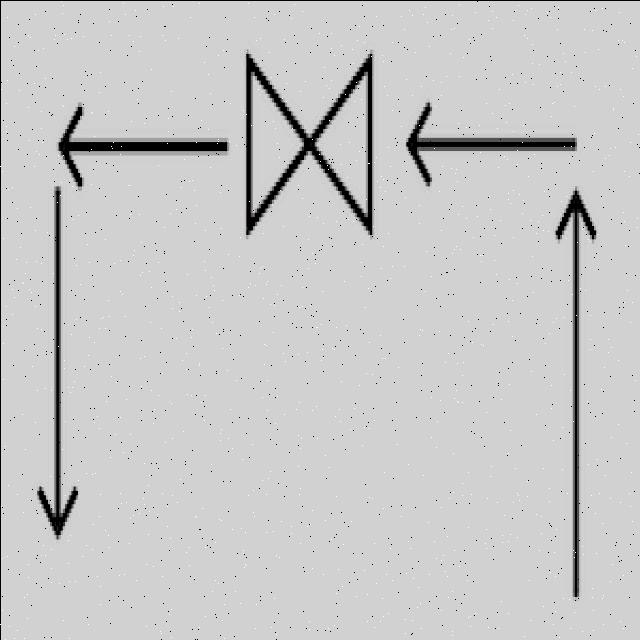Gate Valve: (230, 17, 399, 251)
